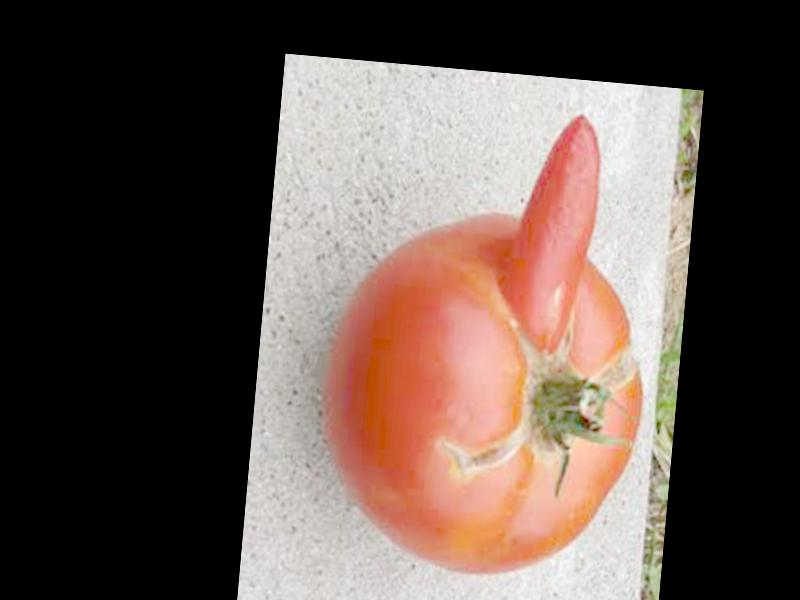Tomato: (319, 200, 658, 590)
